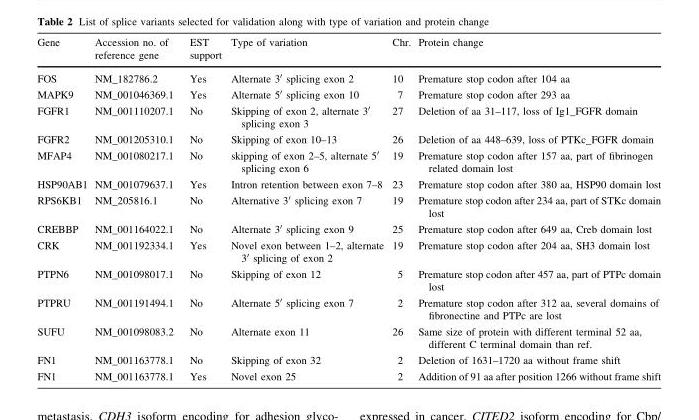table: (36, 37, 660, 381)
table column: (413, 37, 660, 381), (225, 37, 387, 381), (90, 37, 180, 381), (36, 37, 90, 381), (180, 37, 225, 381), (387, 37, 413, 381)
table column header: (36, 37, 660, 65)
table row: (36, 146, 660, 176), (36, 293, 660, 323), (36, 102, 660, 131), (36, 191, 660, 220), (36, 237, 660, 266), (36, 323, 660, 352), (36, 37, 660, 65), (36, 266, 660, 293), (36, 65, 660, 86), (36, 220, 660, 237), (36, 86, 660, 102), (36, 352, 660, 368), (36, 131, 660, 146), (36, 176, 660, 191), (36, 368, 660, 381)
